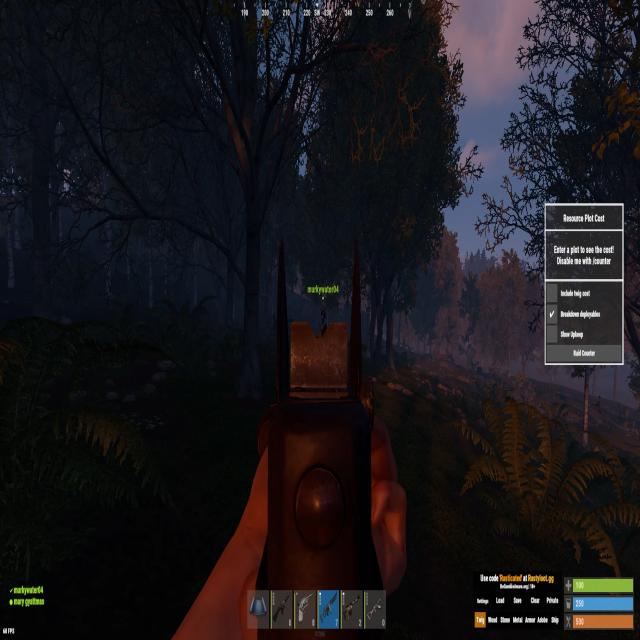Player: (320, 306, 328, 338)
